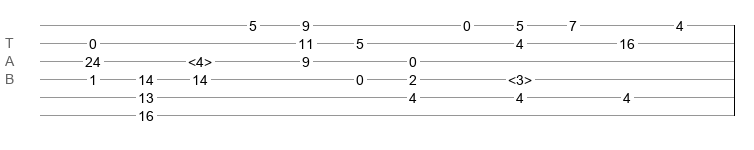0: (89, 36, 97, 46), (356, 72, 364, 82), (409, 54, 417, 64), (463, 18, 471, 28)
1: (89, 72, 97, 82)
11: (298, 36, 314, 46)
13: (138, 90, 154, 100)
14: (138, 72, 154, 82), (192, 72, 208, 82)
16: (138, 108, 154, 118), (619, 36, 635, 46)
2: (409, 72, 417, 82)
24: (85, 54, 101, 64)
4: (409, 90, 417, 100), (516, 90, 524, 100), (516, 36, 524, 46), (623, 90, 631, 100), (676, 18, 684, 28)
5: (249, 18, 257, 28), (356, 36, 364, 46), (516, 18, 524, 28)
7: (569, 18, 577, 28)
9: (302, 54, 310, 64), (302, 18, 310, 28)
harmonic: (188, 54, 212, 64), (508, 72, 532, 82)
